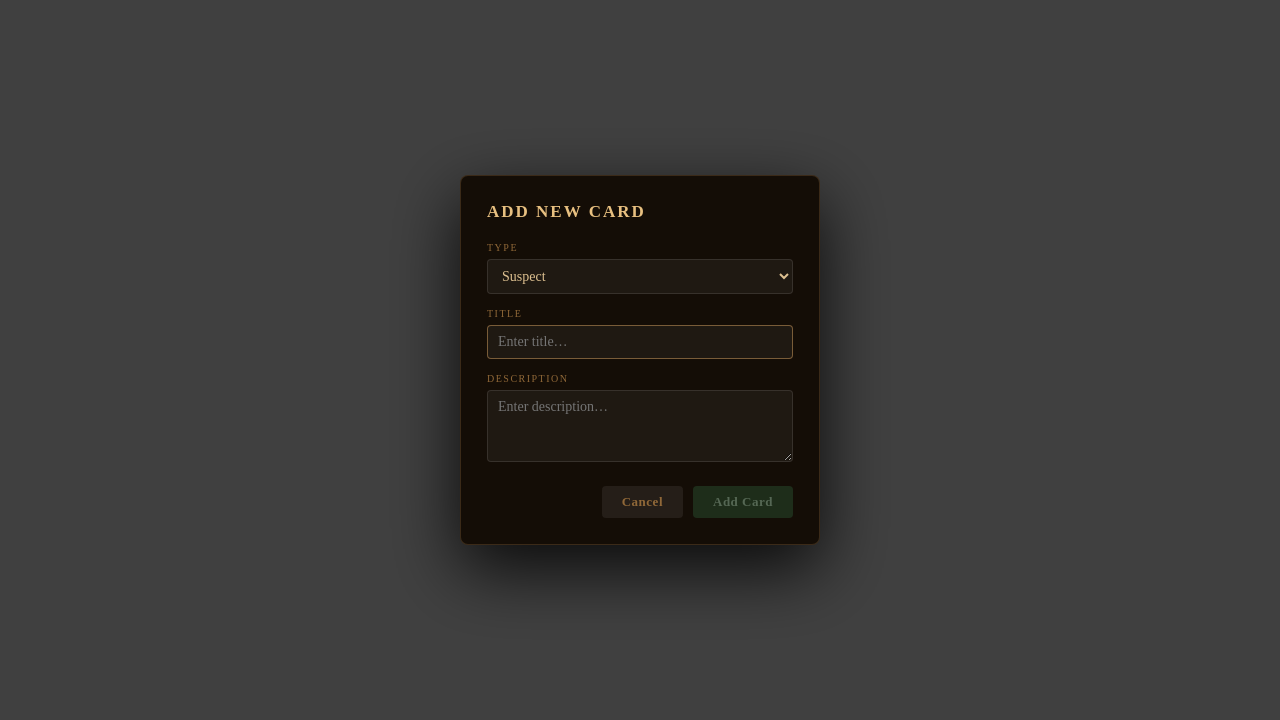
it: AddCardModal › submit button enables when title is filled
Type "New Card" into the field with placeholder "Enter title…" at (640, 342), box left=487, top=325, right=793, bottom=359
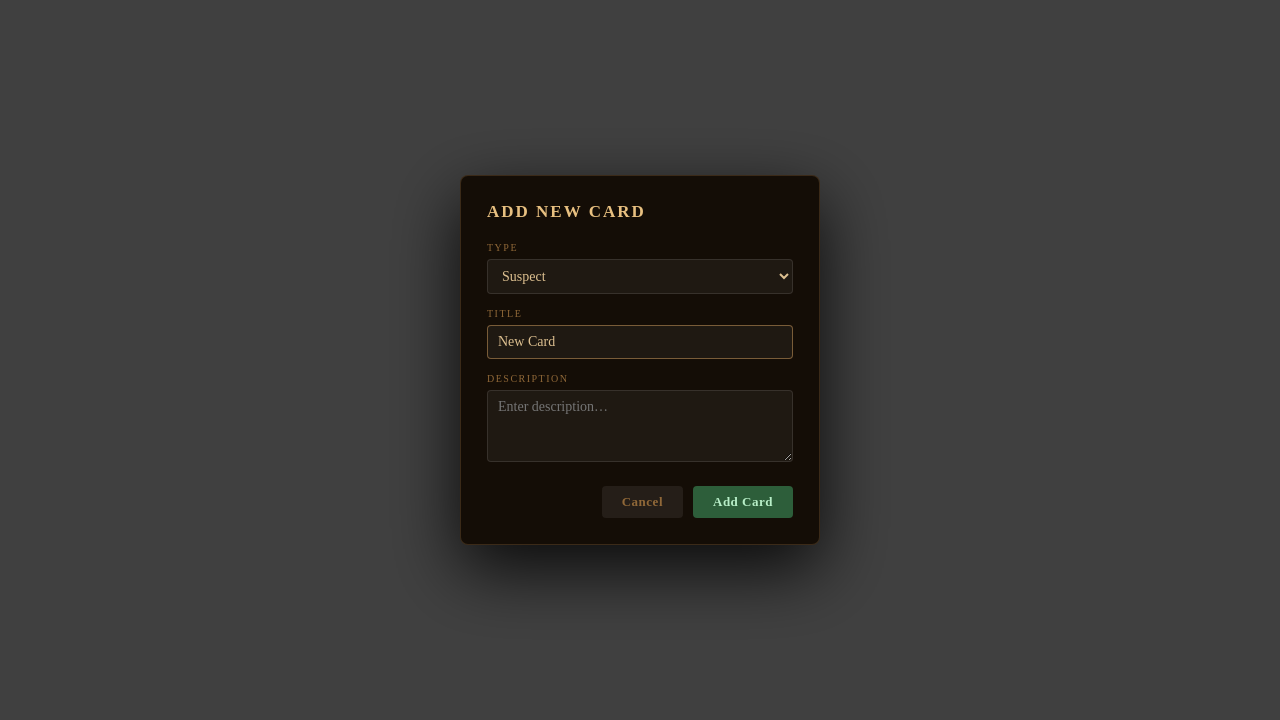
Expected: the button "Add Card" is enabled, left=693, top=486, right=793, bottom=518
